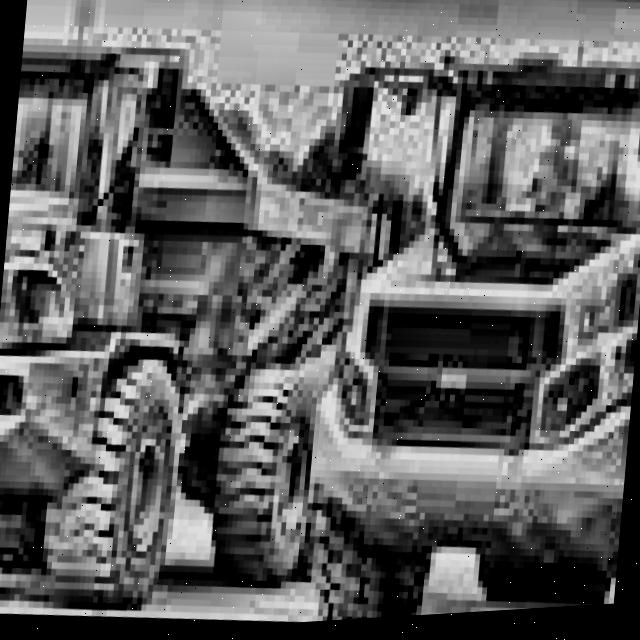dump_truck: (0, 0, 376, 640), (292, 0, 640, 626)
